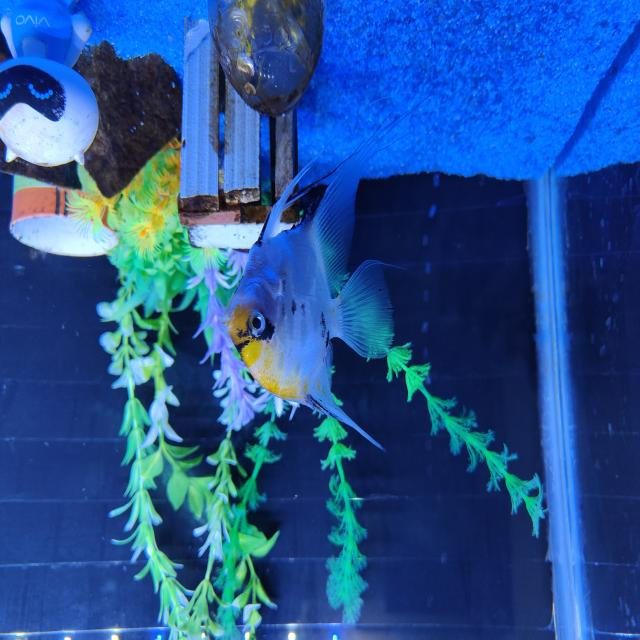Fish: (222, 121, 394, 447)
